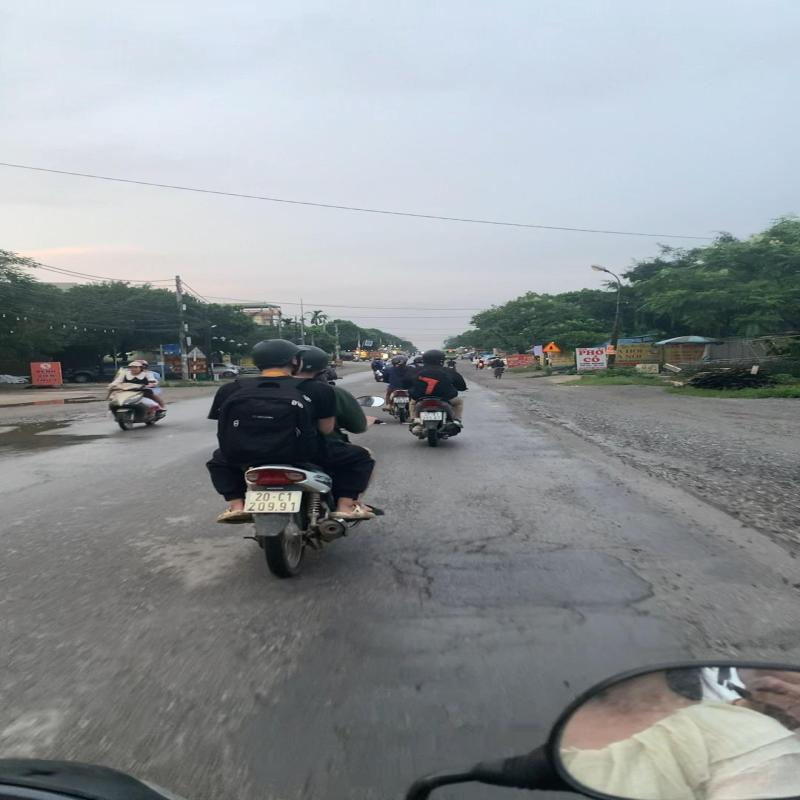helmet: (249, 338, 303, 374), (298, 347, 330, 376)
licenseplate: (241, 488, 305, 514)
motorcyclist: (207, 343, 390, 585)
